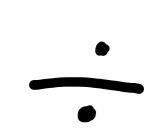div: (28, 42, 144, 123)
